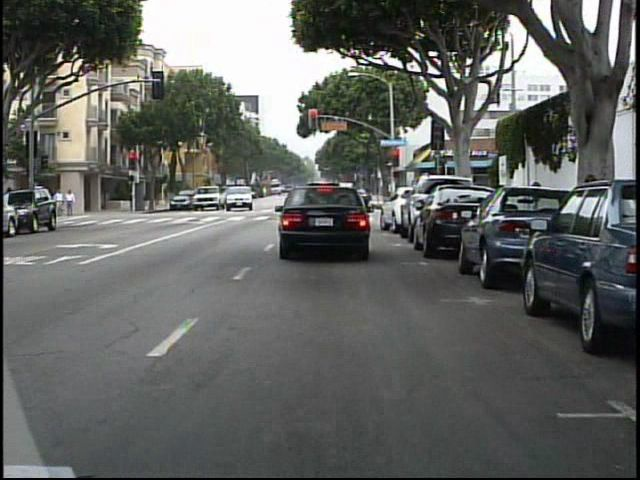person: (64, 189, 79, 218), (55, 187, 68, 218), (57, 186, 67, 222)
